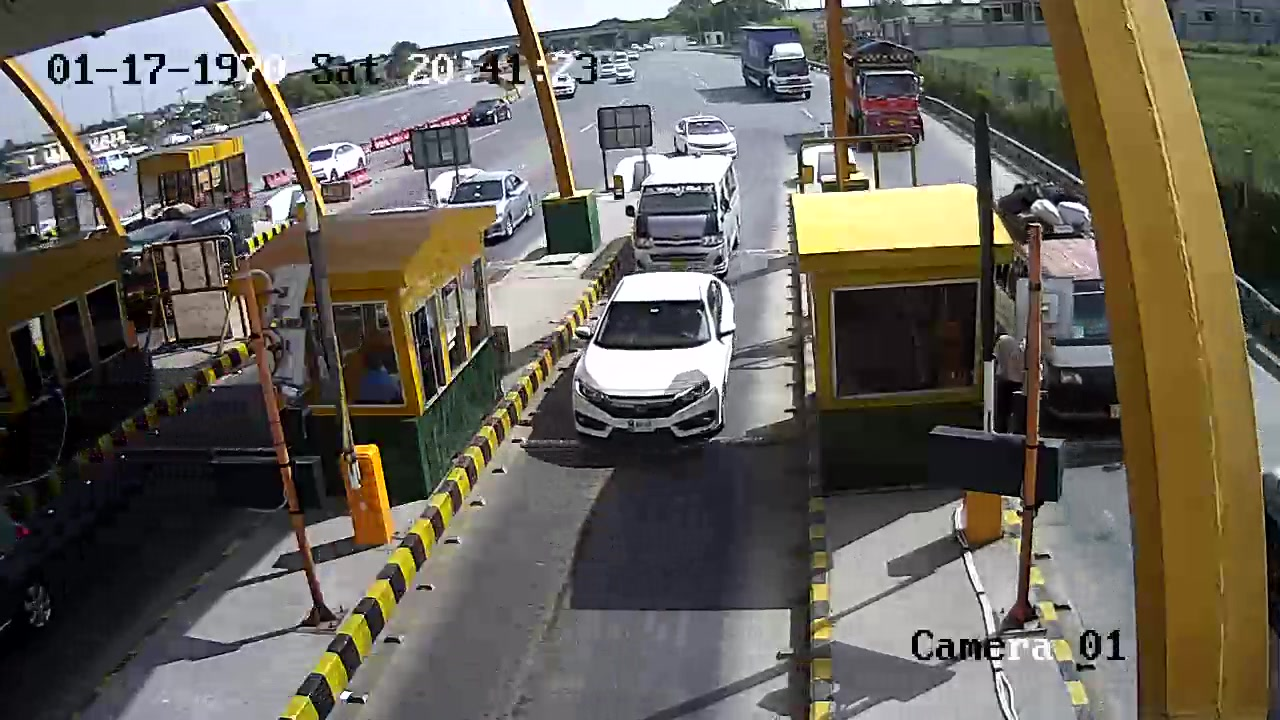F1: (568, 266, 750, 477)
F3: (619, 152, 743, 272)
